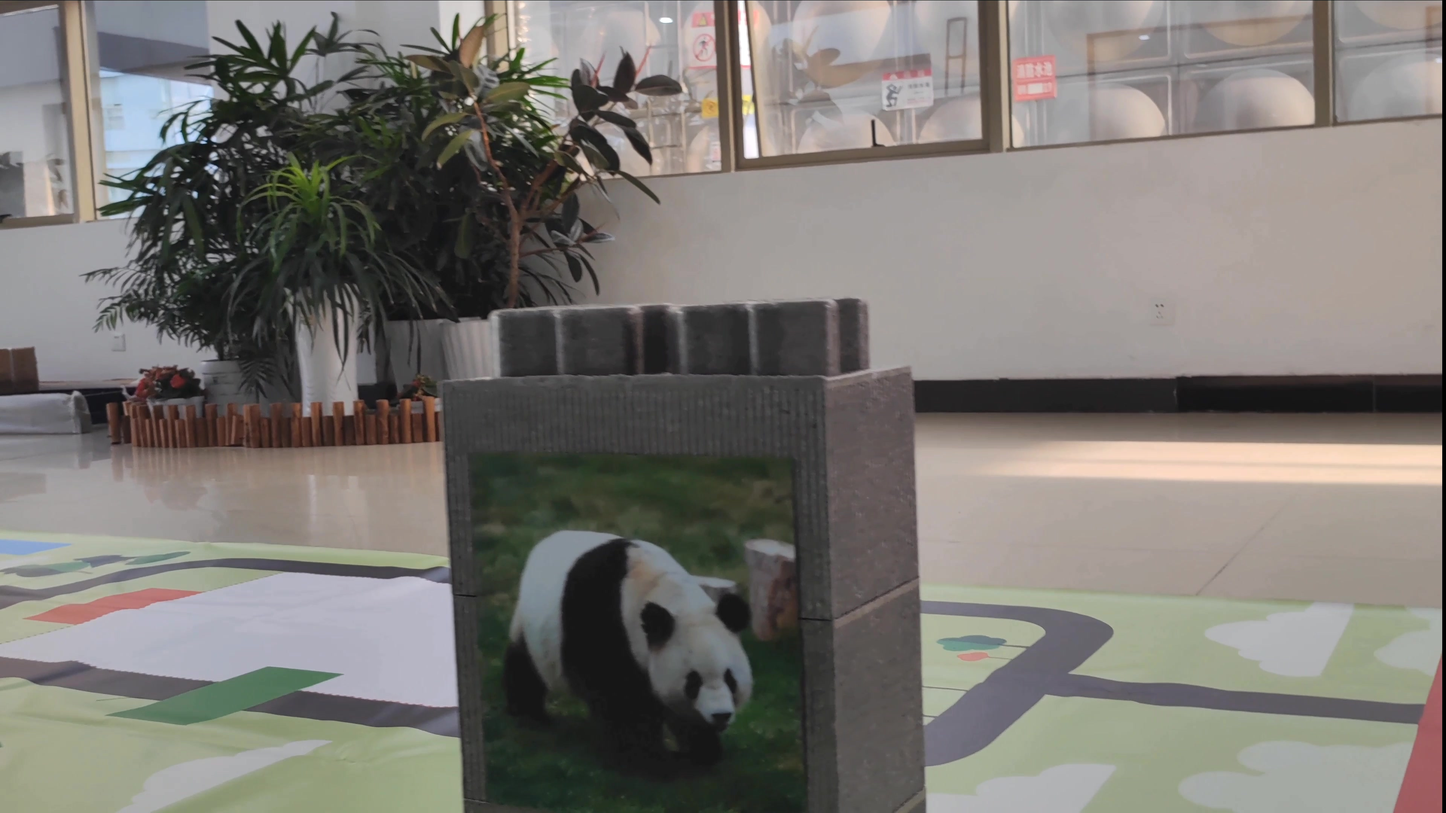panda: (486, 470, 772, 781)
